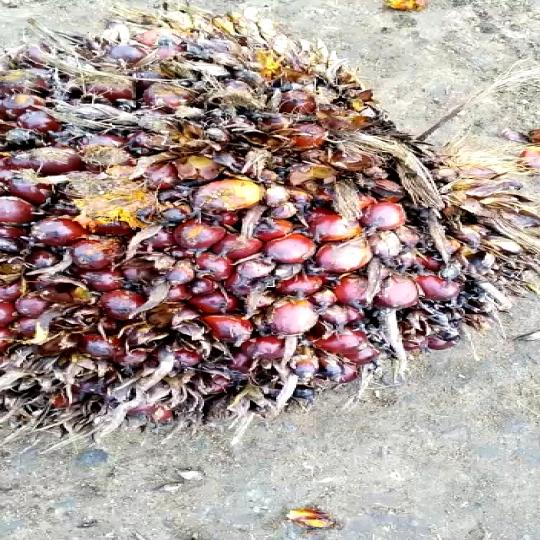masak: (0, 24, 510, 448)
